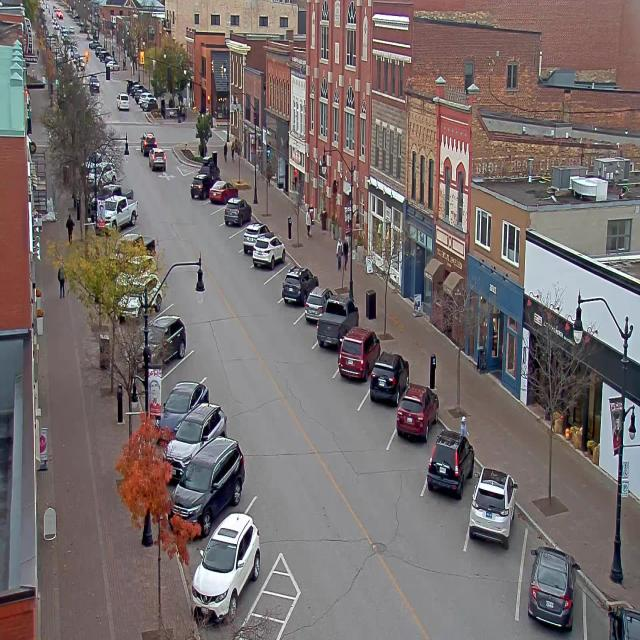available: (162, 341, 209, 390), (263, 255, 290, 300), (228, 218, 250, 252), (212, 202, 227, 231)
occupied: (187, 514, 275, 612), (169, 435, 245, 538), (527, 544, 579, 630), (468, 466, 517, 547), (155, 379, 209, 441), (426, 429, 474, 497), (173, 399, 234, 449), (331, 325, 381, 386), (590, 586, 639, 640), (368, 350, 409, 406), (142, 313, 187, 363), (316, 296, 358, 349), (399, 385, 436, 443), (299, 280, 333, 326), (282, 264, 318, 305), (252, 231, 285, 269), (224, 196, 252, 227), (205, 176, 237, 203), (190, 171, 215, 199), (194, 157, 223, 179), (239, 224, 264, 248)
